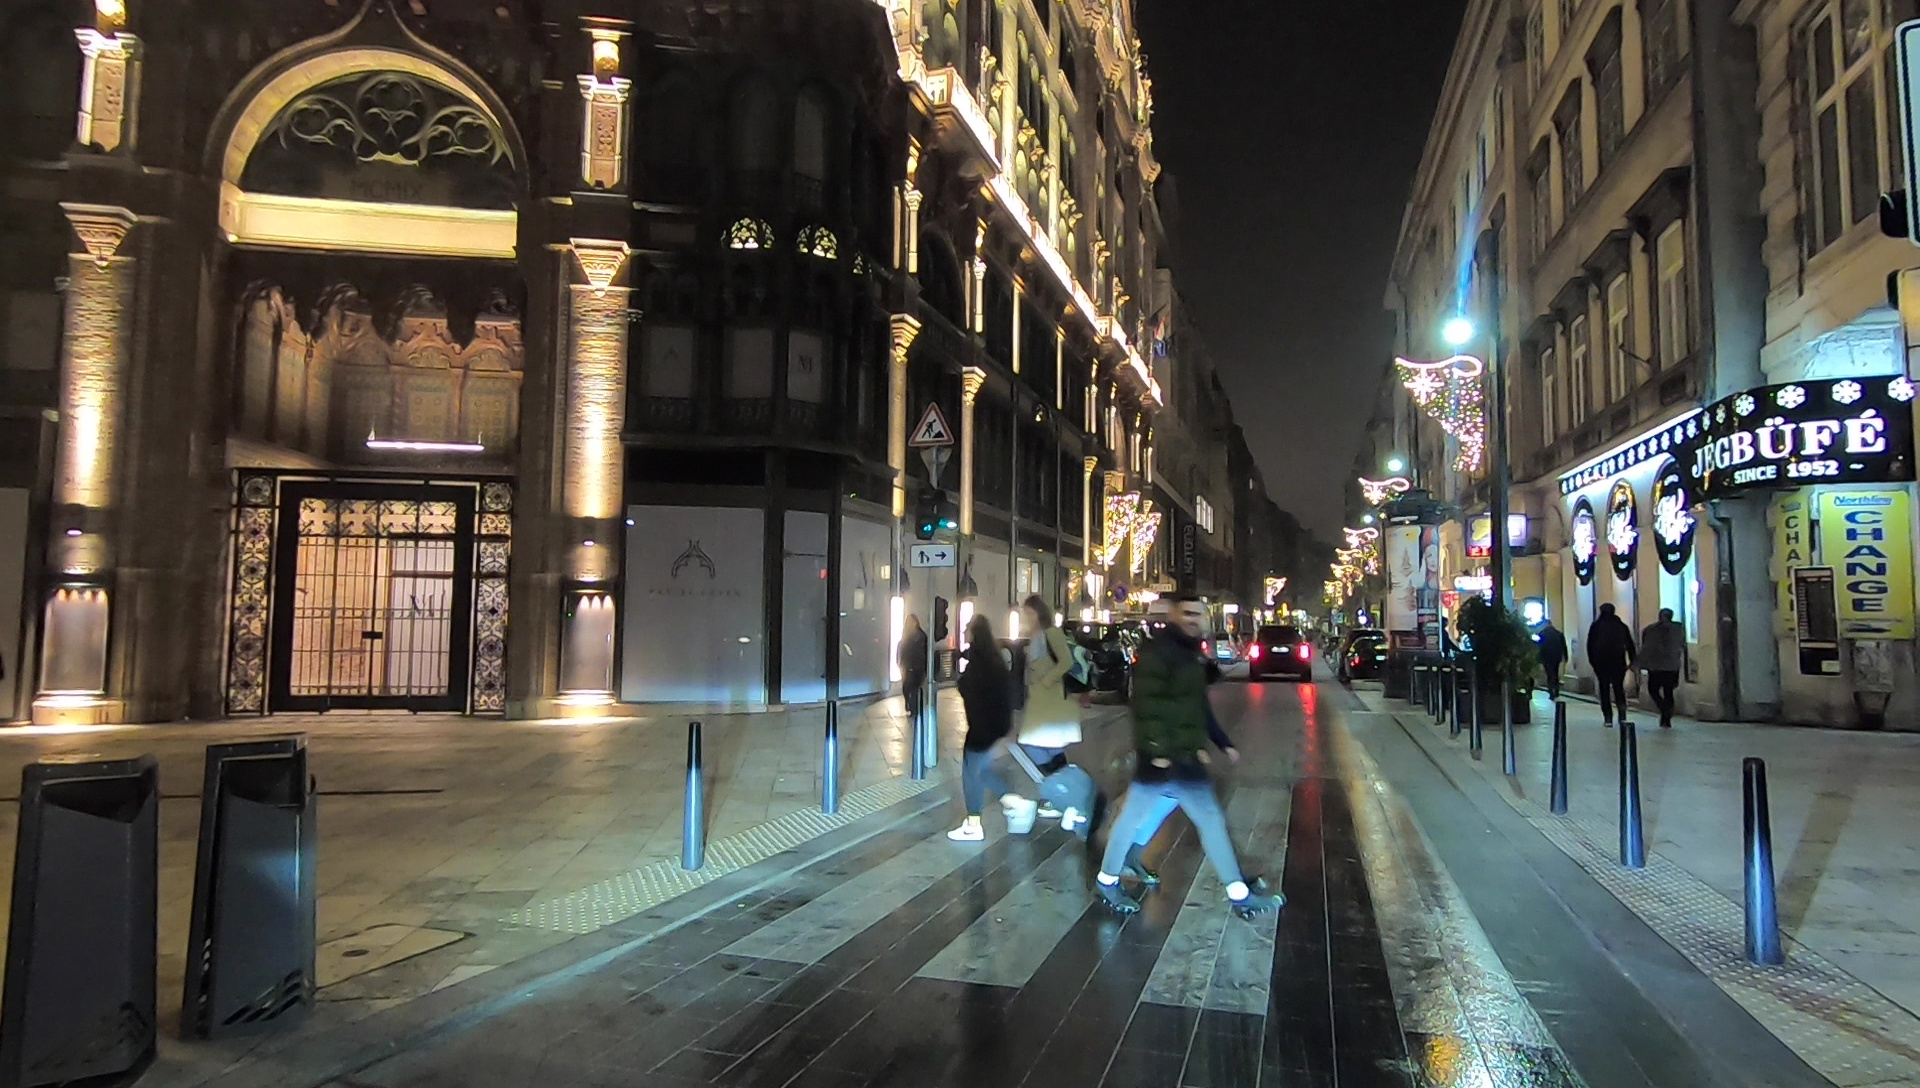person: (1101, 605, 1286, 921), (949, 617, 1038, 842), (1015, 597, 1102, 823), (1640, 608, 1686, 731), (1588, 601, 1631, 726), (900, 613, 936, 714), (1537, 621, 1566, 696)
